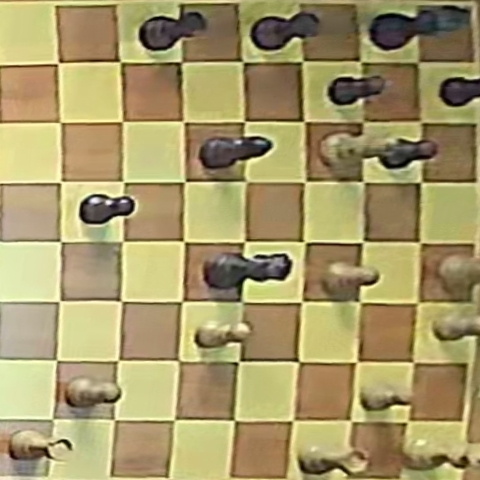black-bishop: (200, 136, 271, 169)
black-king: (371, 6, 469, 51)
black-pawn: (378, 138, 439, 169), (328, 75, 387, 106), (80, 194, 134, 225), (440, 76, 480, 107)
black-queen: (204, 252, 290, 289)
black-rook: (140, 11, 206, 51), (253, 12, 320, 50)
white-bishop: (319, 131, 397, 168)
white-king: (402, 437, 480, 470)
white-pawn: (321, 262, 379, 298), (66, 376, 121, 408), (196, 321, 252, 348), (362, 383, 412, 410), (434, 311, 479, 340)
white-queen: (437, 254, 480, 298)
white-rook: (10, 429, 72, 461), (300, 446, 368, 475)
